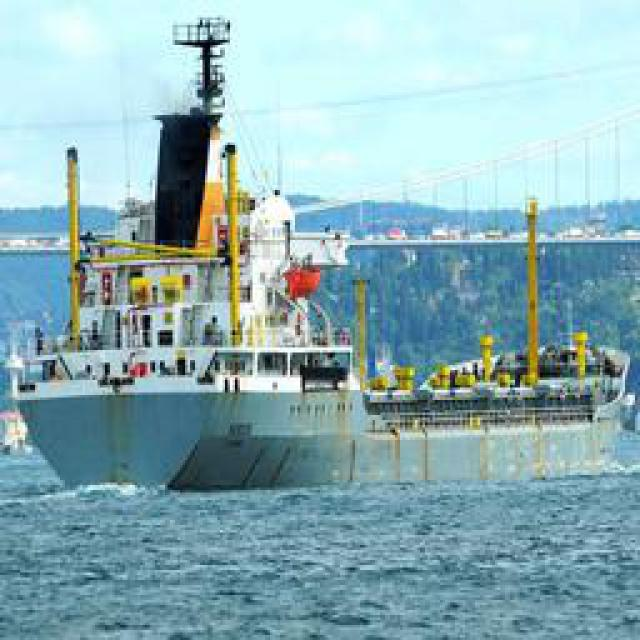Ship: (26, 56, 519, 494)
